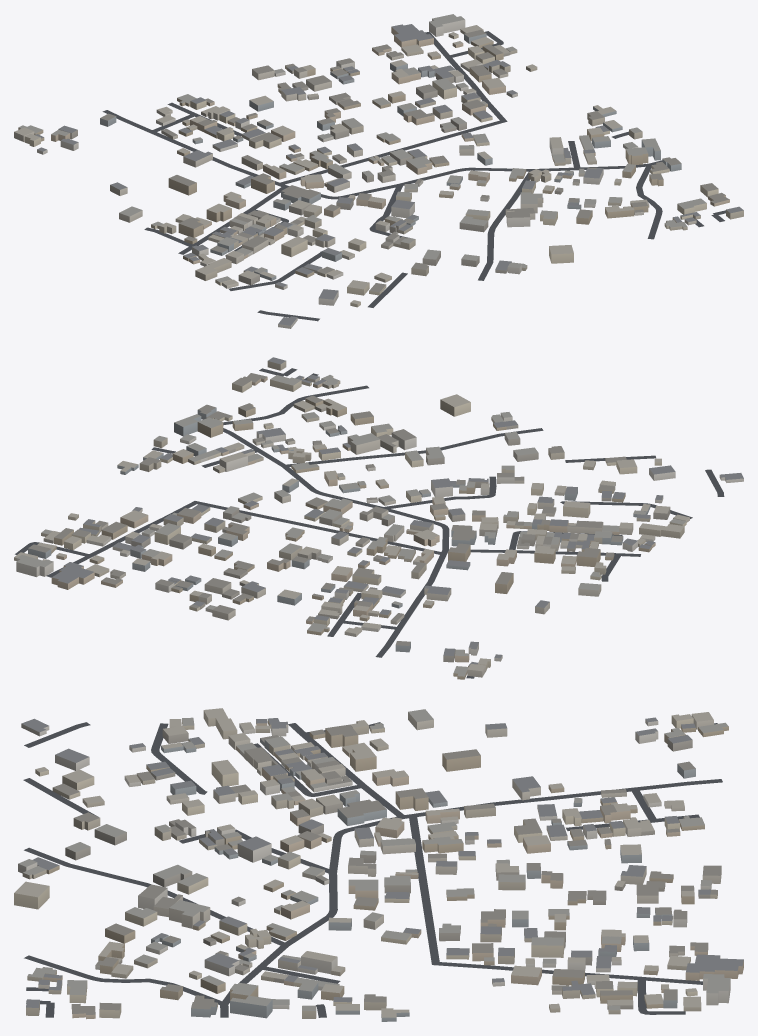
The picture shows the model from 3 angles, top to bottom: view 1: azimuth 30°, elevation 25°; view 2: azimuth 150°, elevation 25°; view 3: azimuth 270°, elevation 25°; orthographic projection. The views are drawn at different scales.
Parts seen in each view (by area): view 1: buildings_roofs, buildings_walls, roads; view 2: buildings_roofs, buildings_walls, roads; view 3: buildings_roofs, buildings_walls, roads.
Boxes of the visible parts, x1,y1,x2,y2 form: buildings_roofs: (14, 14, 743, 325); buildings_walls: (14, 19, 743, 328); roads: (102, 31, 725, 321); buildings_roofs: (14, 357, 743, 676); buildings_walls: (14, 361, 743, 679); roads: (15, 368, 724, 678); buildings_roofs: (14, 708, 743, 1017); buildings_walls: (14, 711, 743, 1021); roads: (23, 722, 722, 1017).
Size of the model in its own units: 520 by 9.6 by 524.
